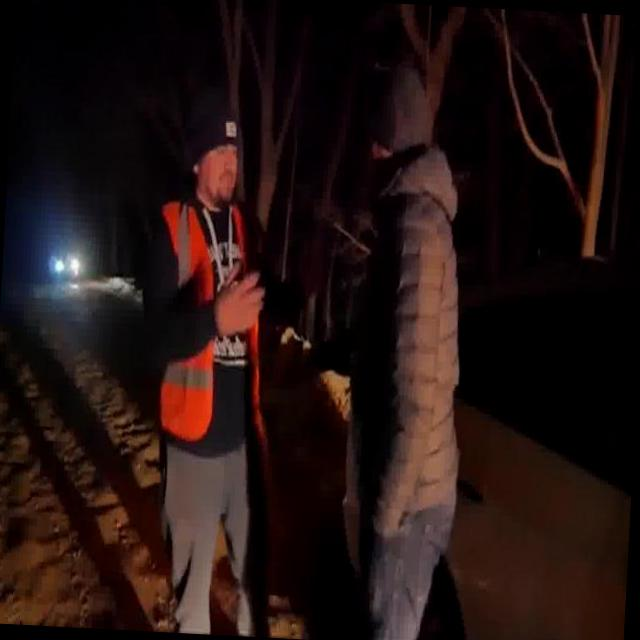no-gloves: (207, 260, 274, 348)
no-helmet: (181, 100, 271, 216), (359, 68, 452, 171)
no-vest: (329, 178, 478, 526)
vest: (150, 200, 282, 450)
